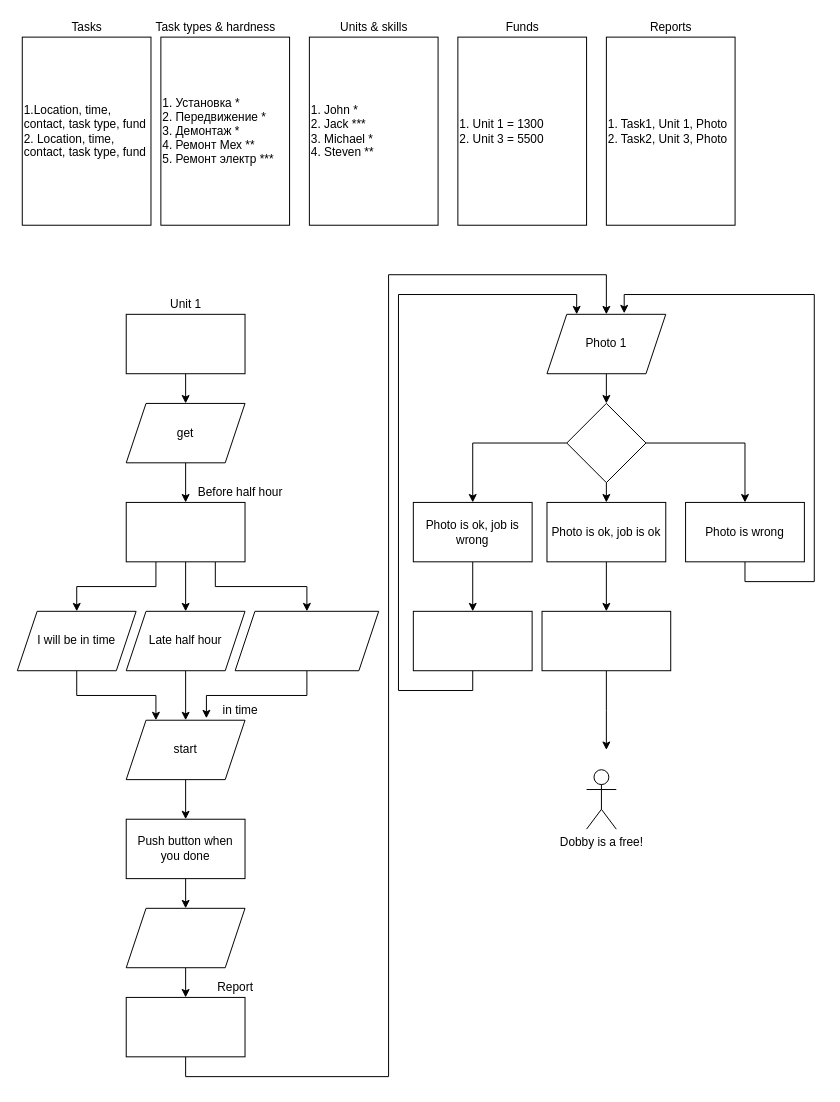
Some shapes in this 840 by 1102 pixel diagram are drawn without their labels. The box of each missing label's shape, as (x1, y1, x2, y2) in pixels:
Checking photo 1 by operator: (566, 402, 646, 483)
Do it right & make photo again: (412, 610, 532, 671)
Done: (125, 907, 245, 968)
Everything is ok?: (125, 501, 245, 562)
increase funds of unit 1: (541, 610, 671, 671)
Late more half hour: (234, 610, 379, 671)
Make photo 1 like this: (125, 996, 245, 1057)
task 1: (125, 313, 245, 374)
